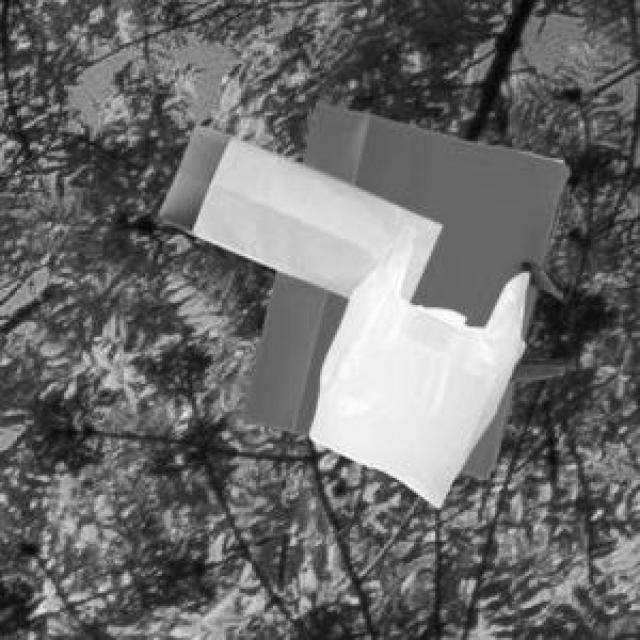paper: (237, 98, 565, 474), (156, 122, 437, 299)
